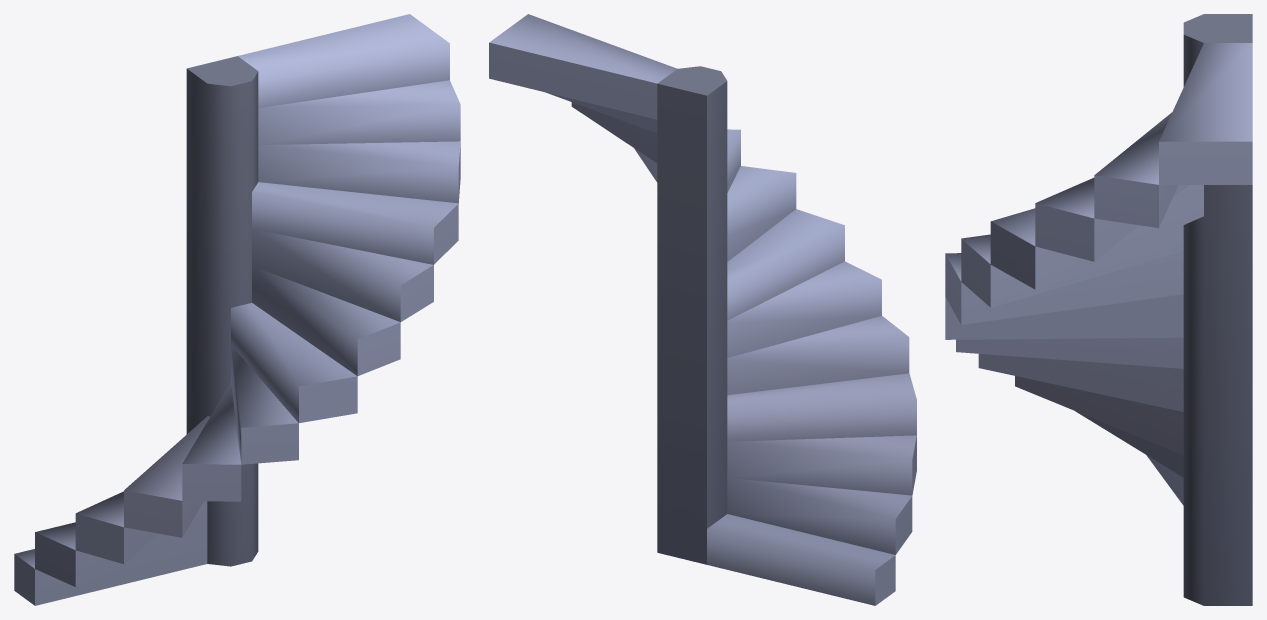
File: stairs-stone-round.glb
The picture shows the model from 3 angles, left to right: view 1: azimuth 30°, elevation 25°; view 2: azimuth 150°, elevation 25°; view 3: azimuth 270°, elevation 25°; orthographic projection. The views are drawn at different scales.
Parts seen in each view (by area): view 1: stairs-stone-round; view 2: stairs-stone-round; view 3: stairs-stone-round.
Boxes of the visible parts, <box> form: stairs-stone-round: <box>14,14,460,605</box>; stairs-stone-round: <box>489,14,916,605</box>; stairs-stone-round: <box>945,14,1252,605</box>.
Size of the model in its own units: 0.8618 by 1 by 0.4948.
1 material, 1 textured.
